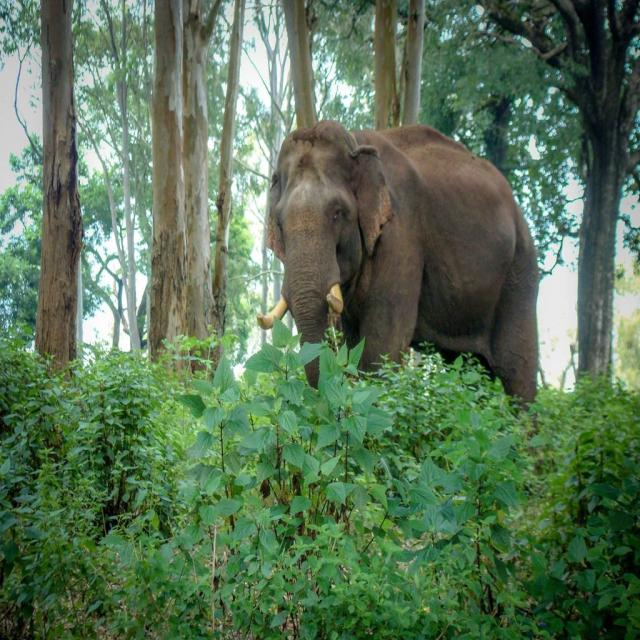Elephant: (259, 102, 544, 434)
